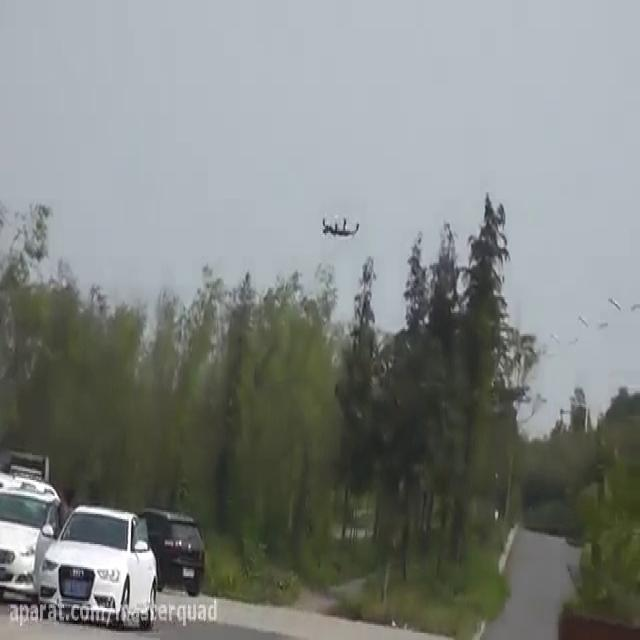drone: (319, 208, 362, 238)
